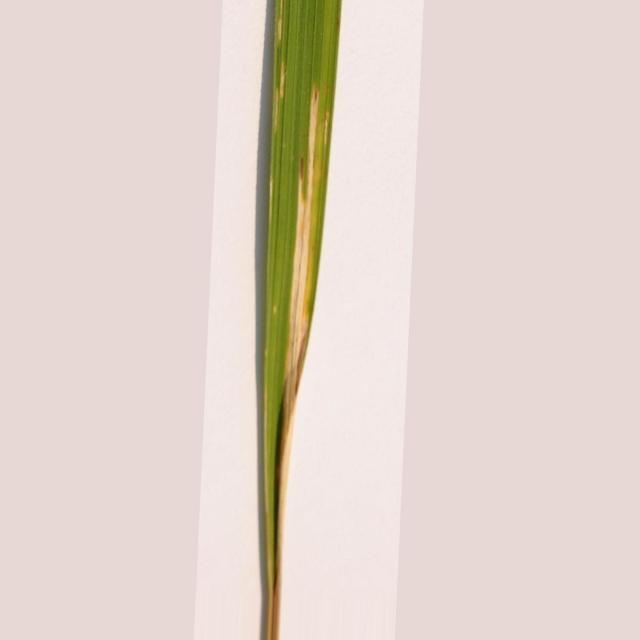Bacterial_Leaf_Blight: (282, 85, 331, 434)
